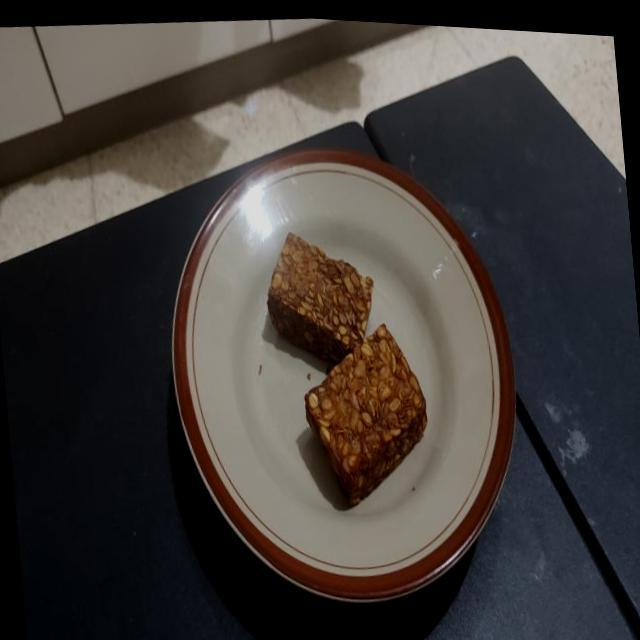tempe_goreng: (305, 324, 427, 505), (266, 232, 372, 362)
